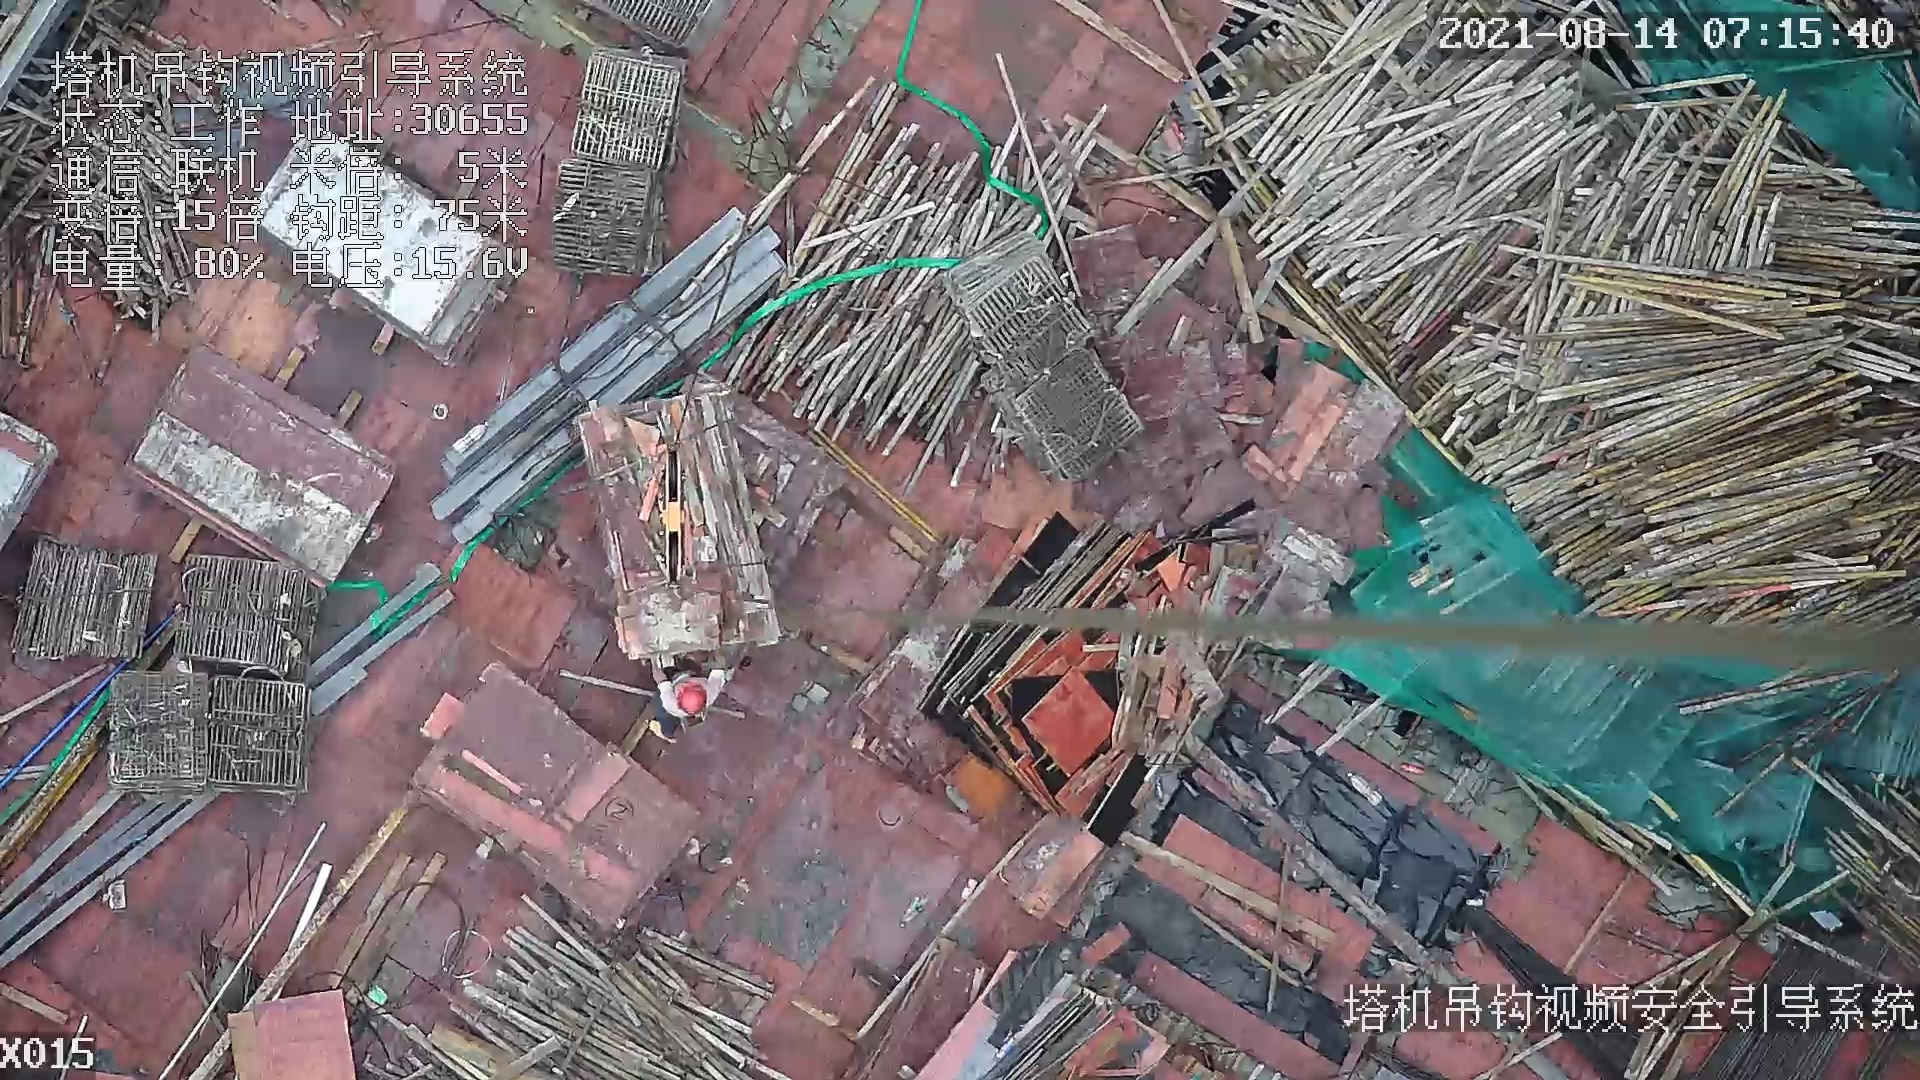helmet: (670, 682, 710, 724)
hook: (649, 447, 700, 589)
person: (641, 655, 733, 721)
